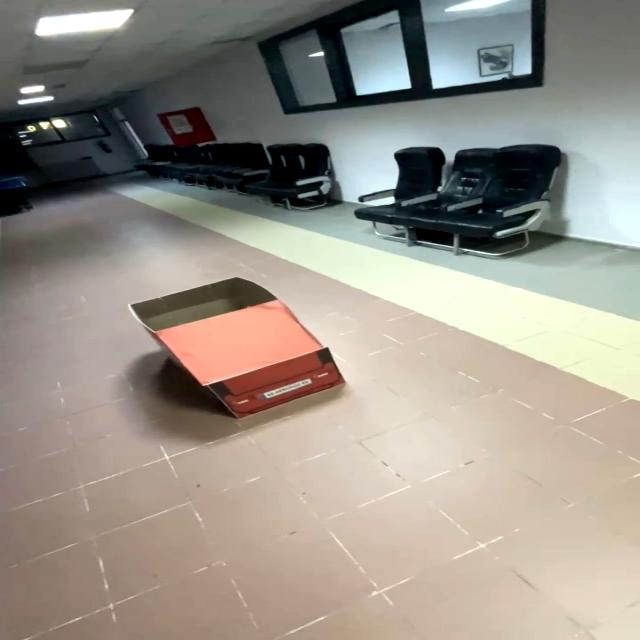red_car: (96, 268, 374, 438)
